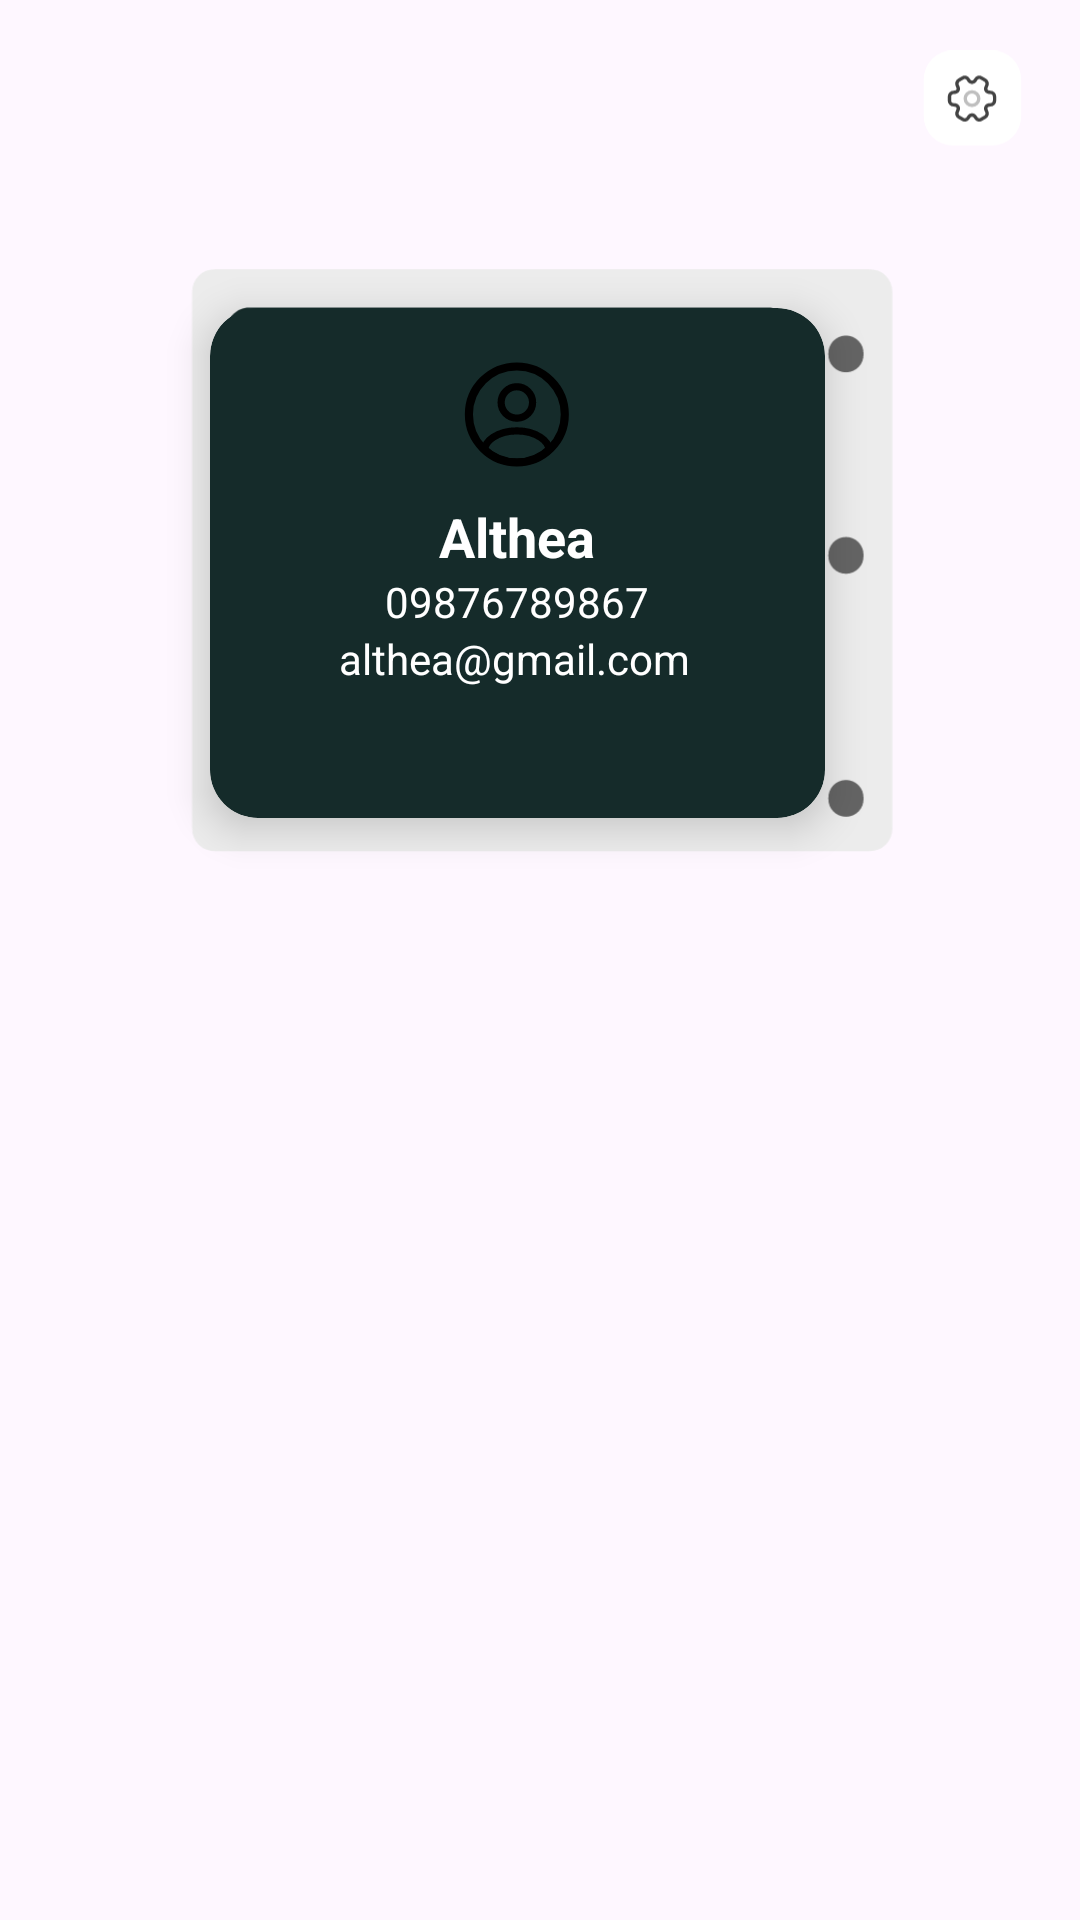

Where to tap for icons on this 1080*1920 app screen, as [x,y]:
Settings: [972,98]
